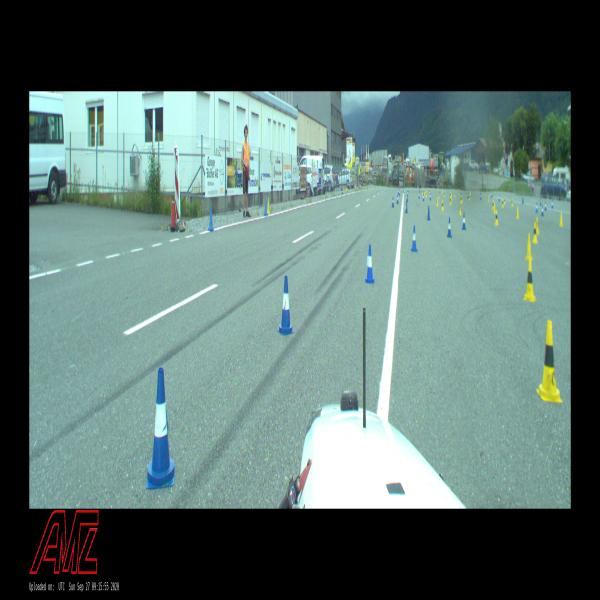blue_cone: (146, 367, 174, 489), (277, 276, 294, 334), (364, 244, 374, 284), (411, 226, 418, 252), (208, 205, 214, 231), (447, 218, 452, 238), (462, 212, 466, 230), (264, 198, 268, 215), (426, 205, 430, 220), (404, 201, 407, 213), (396, 194, 399, 204), (544, 201, 547, 211), (542, 205, 544, 216), (536, 202, 538, 212), (392, 197, 394, 207), (552, 200, 554, 209), (422, 193, 424, 202), (418, 192, 420, 199), (467, 192, 469, 199), (490, 192, 492, 198), (499, 194, 500, 202), (430, 193, 431, 201), (480, 193, 481, 200)
yellow_cone: (537, 321, 563, 403), (524, 259, 536, 303), (525, 233, 533, 260), (532, 222, 538, 244), (536, 216, 539, 235), (267, 197, 270, 215), (559, 213, 563, 226), (495, 210, 498, 225), (459, 203, 462, 216), (441, 200, 444, 211), (493, 202, 496, 213), (516, 207, 519, 218), (436, 197, 439, 206), (492, 200, 494, 210), (502, 198, 504, 208), (461, 194, 463, 203), (511, 198, 513, 206), (504, 196, 506, 204), (460, 196, 462, 204), (424, 191, 426, 196), (465, 191, 467, 196), (450, 196, 451, 205), (450, 192, 451, 199), (488, 195, 489, 202), (438, 192, 439, 199), (469, 194, 470, 201), (444, 191, 445, 197), (426, 191, 427, 197), (454, 191, 455, 196)
